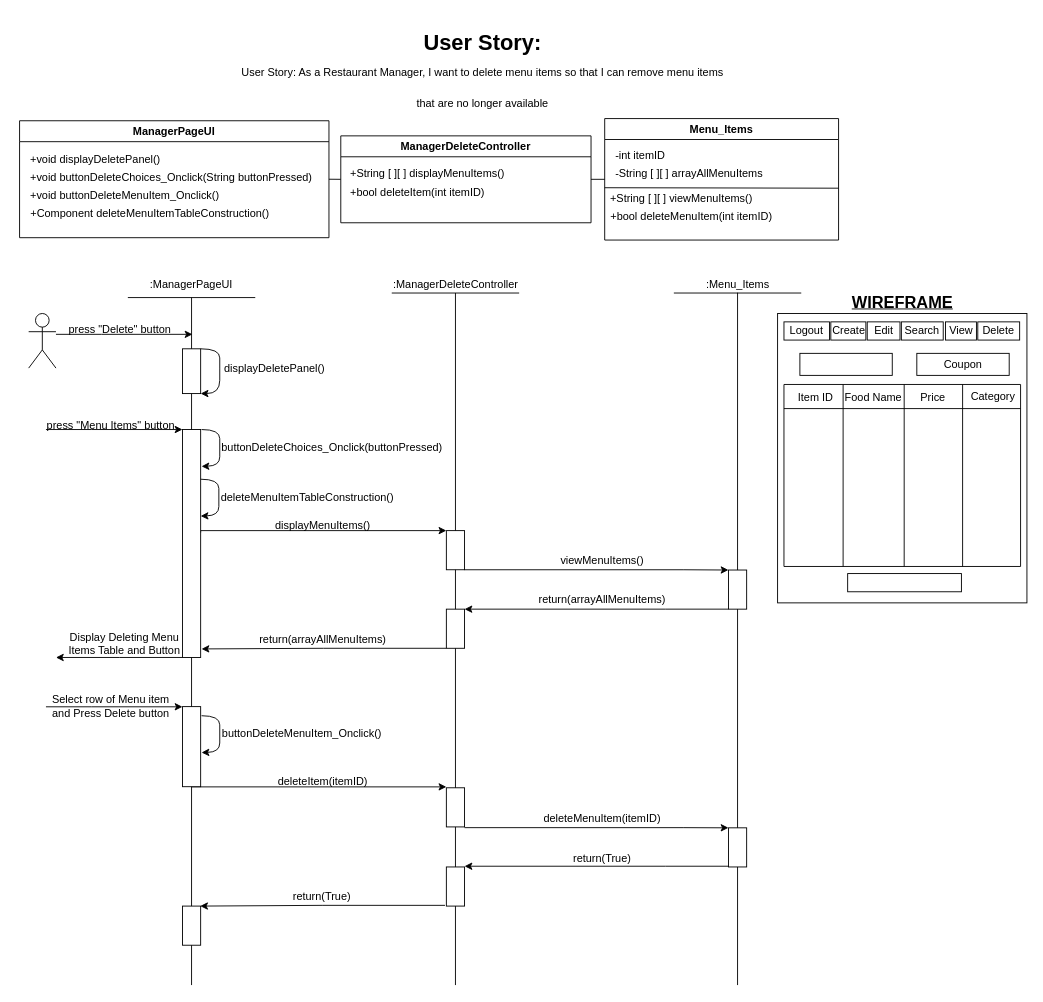
Image size: 1043x1002. Some labels were removed from this diagram. The centre of each missing label's shape, as x and y in pixels:
"Delete Menu Item" goes at pixel 904 582.
"Menu Items" goes at pixel 845 363.
"Restaurant Manager" goes at pixel 42 340.
